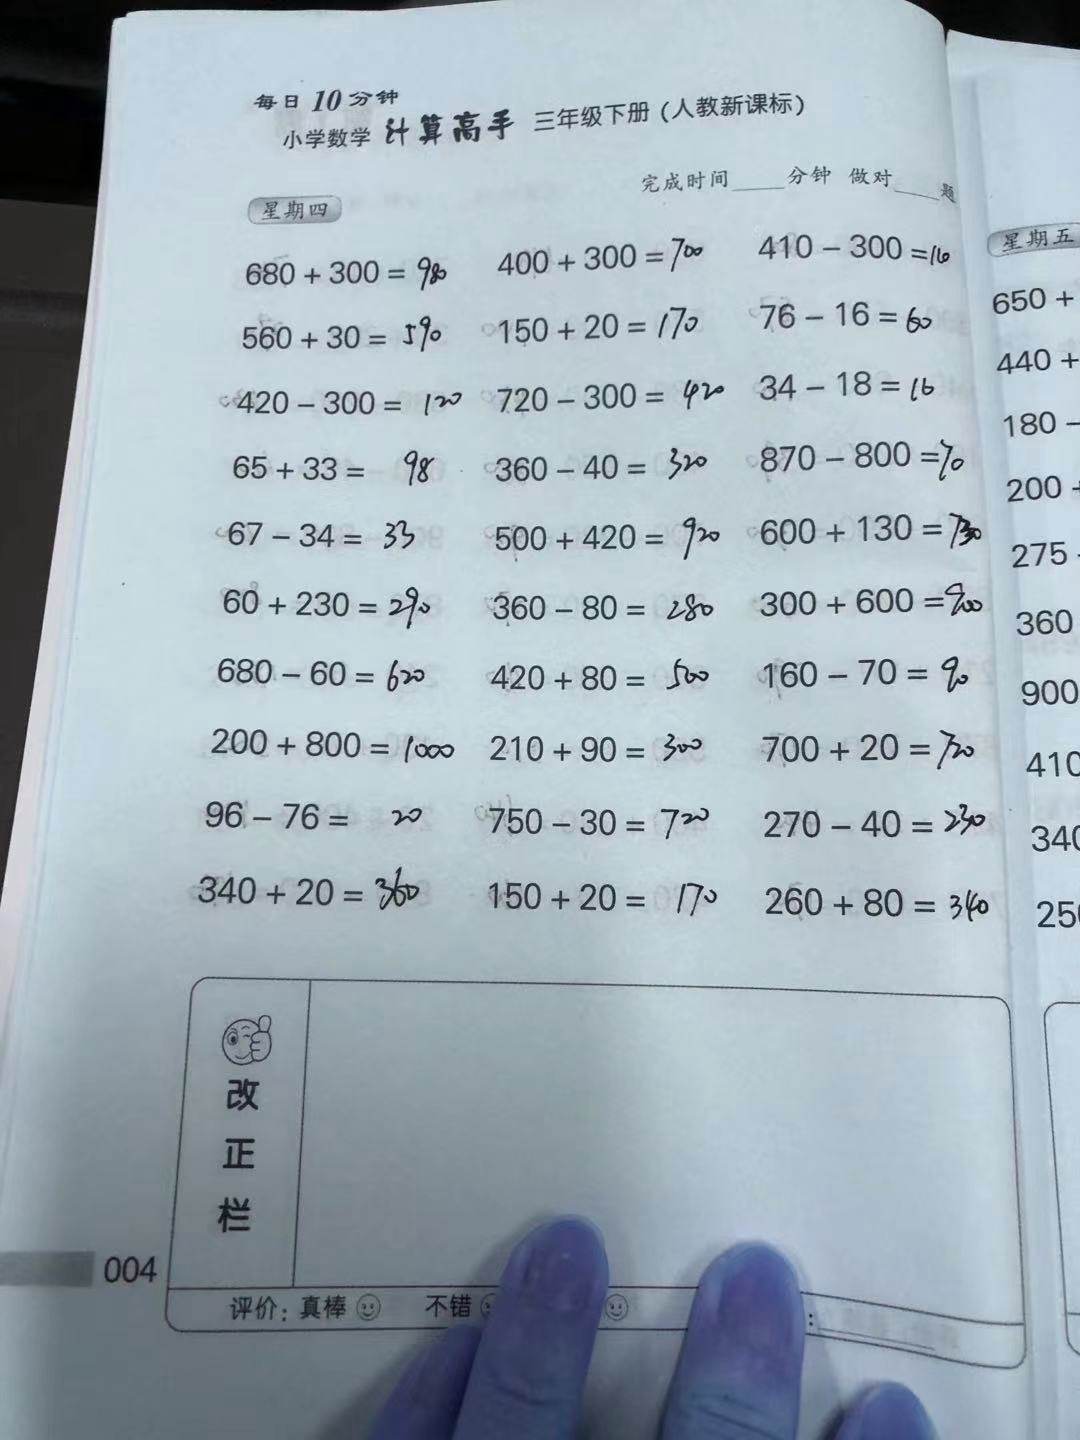equation: (202, 724, 484, 788), (190, 861, 439, 925), (474, 867, 733, 928), (482, 650, 731, 712), (487, 513, 745, 570), (211, 650, 441, 712), (236, 242, 473, 302), (230, 382, 482, 438), (759, 879, 1005, 936), (479, 582, 728, 638), (757, 722, 985, 782), (754, 512, 997, 568), (194, 799, 451, 850), (747, 222, 962, 282), (485, 728, 725, 781), (216, 581, 444, 636), (756, 653, 984, 708), (761, 801, 993, 853), (753, 438, 982, 490), (488, 444, 731, 493), (482, 799, 728, 847), (491, 379, 744, 424), (754, 585, 991, 633), (751, 364, 961, 418), (224, 448, 457, 496), (234, 312, 457, 362), (750, 295, 959, 348), (491, 236, 730, 278), (224, 515, 434, 561), (490, 310, 717, 345)
